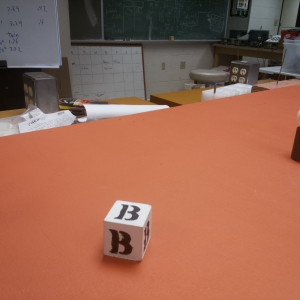blockB: (103, 199, 151, 262)
obstacle: (290, 109, 300, 166)
